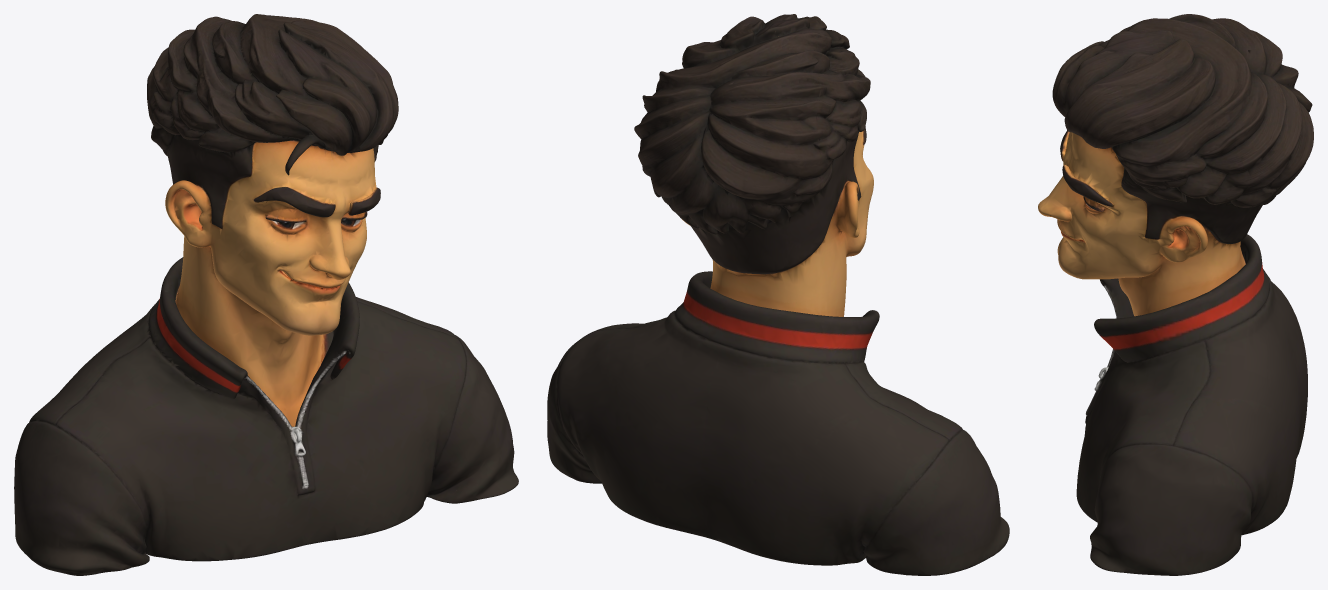
Rendered from competitor.glb.
The picture shows the model from 3 angles, left to right: view 1: azimuth 30°, elevation 25°; view 2: azimuth 150°, elevation 25°; view 3: azimuth 270°, elevation 25°; orthographic projection. The views are drawn at different scales.
Parts seen in each view (by area): view 1: tripo_node_21f00a1a-76cf-4b58-96ff-5006c5f46526; view 2: tripo_node_21f00a1a-76cf-4b58-96ff-5006c5f46526; view 3: tripo_node_21f00a1a-76cf-4b58-96ff-5006c5f46526.
Boxes of the visible parts, box(x1,y1,x2,y2) form: tripo_node_21f00a1a-76cf-4b58-96ff-5006c5f46526: box(14, 14, 518, 575); tripo_node_21f00a1a-76cf-4b58-96ff-5006c5f46526: box(547, 14, 1009, 575); tripo_node_21f00a1a-76cf-4b58-96ff-5006c5f46526: box(1038, 14, 1313, 575).
Bounding box in the file's own units: 0.9997 × 0.9949 × 0.5564.
1 material, 1 textured.
